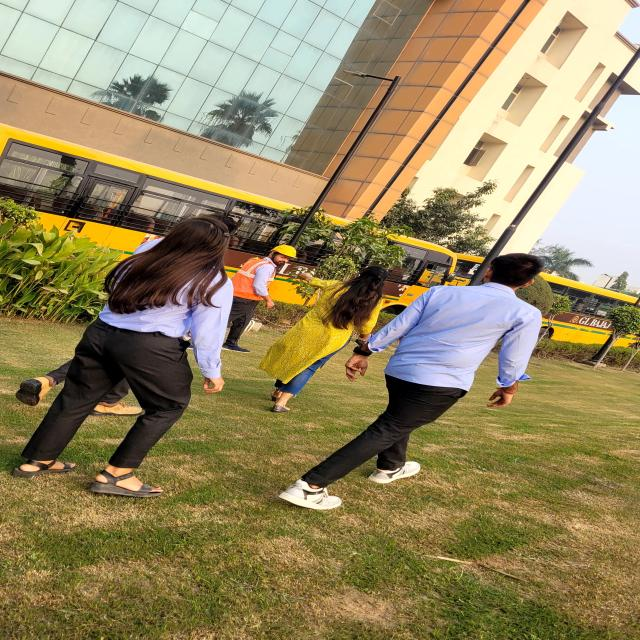safe: (215, 244, 302, 354)
unsafe: (278, 252, 552, 510), (11, 216, 240, 500), (256, 266, 387, 412)
